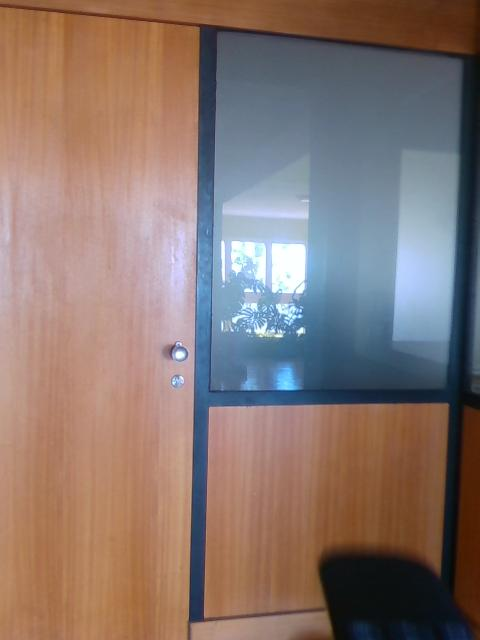door: (0, 6, 196, 639)
